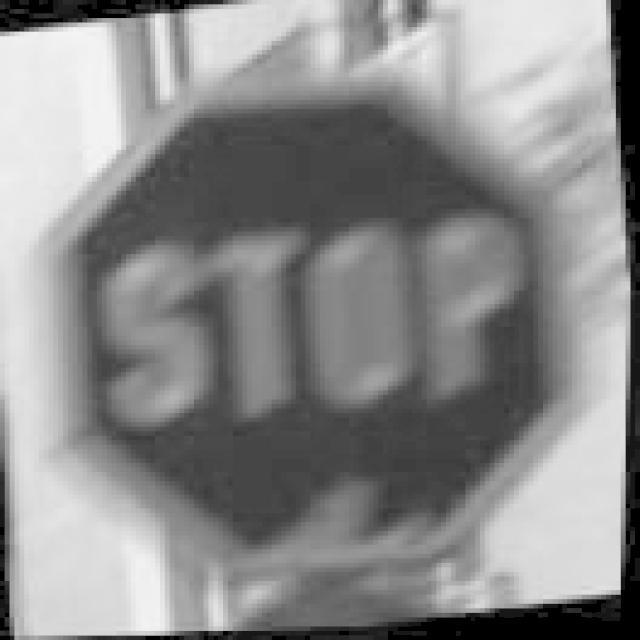stop_sign: (9, 16, 616, 610)
